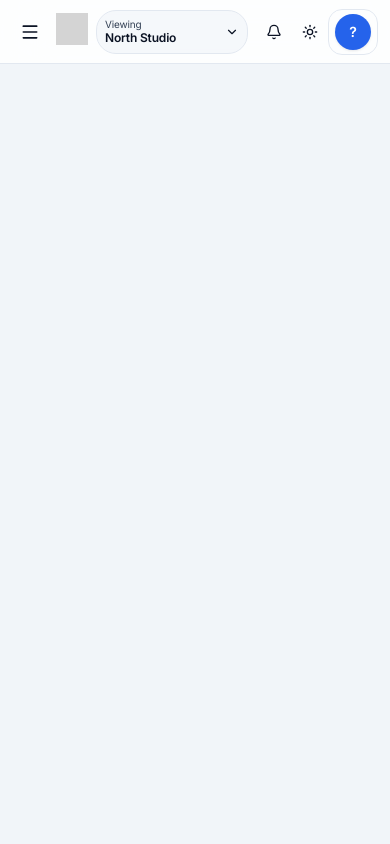
Test: phone workspace scope › integrates the real mobile control and sheet alongside the unchanged desktop selector
The width and height of the screenshot is (390, 844).
What coordinates should you click on to do the following:
click the button with aria-label "Workspace location:"
I would click on:
 (172, 32)
Its box is [96,10,248,54].
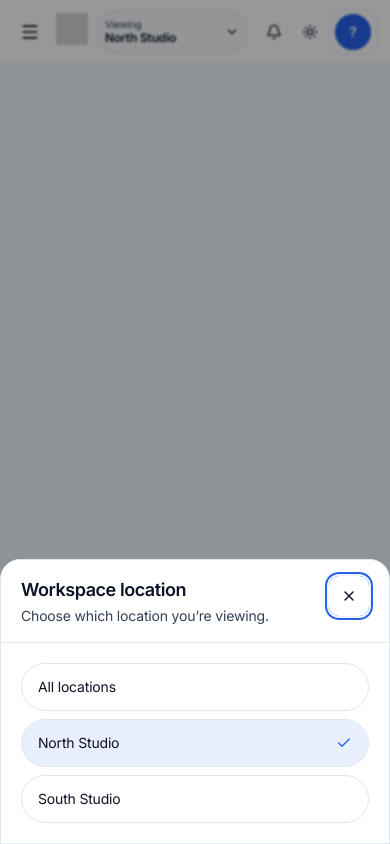
expect the button "All locations" is shown: met, box [21,663,369,711]
